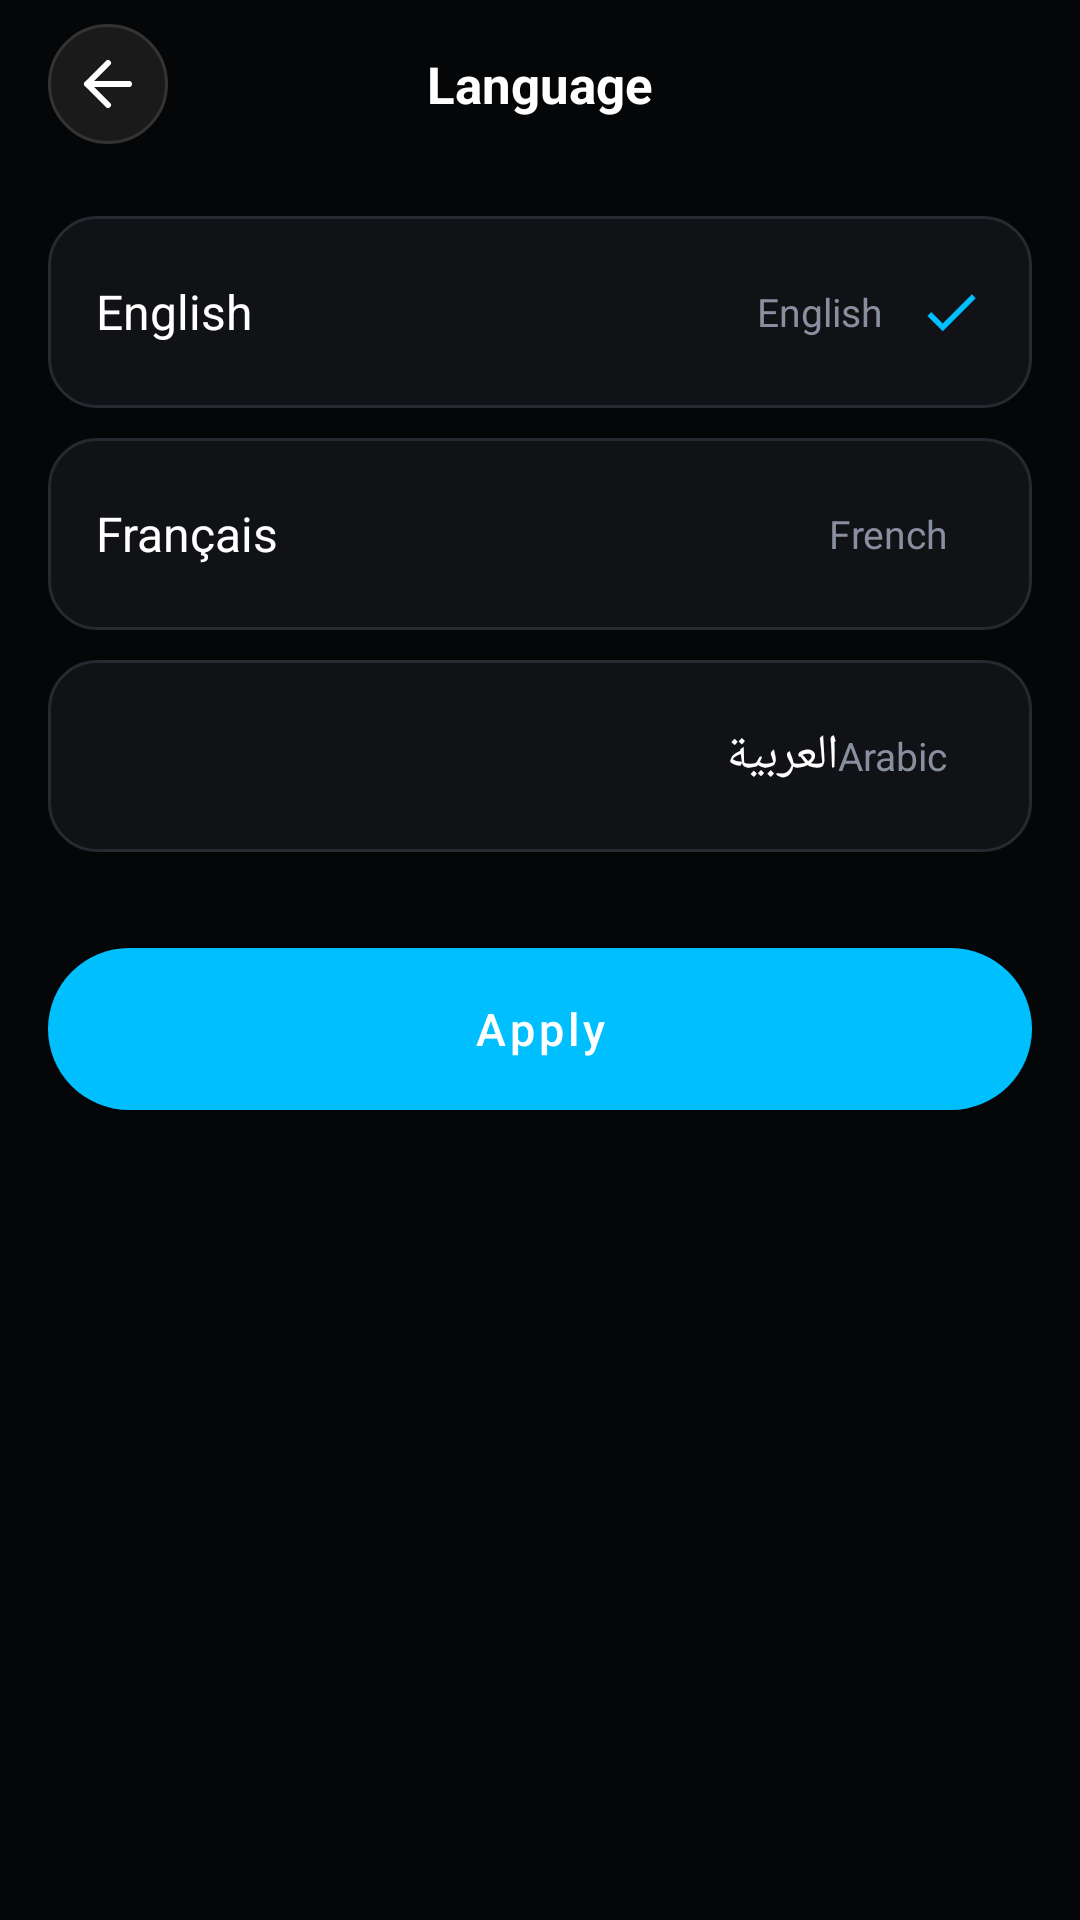

Locate icon controls on the screen. Image size 1080*1920, boxes as [x1,y1,x2,y2].
Back: [48,24,168,144]
Selected: [927,294,976,331]
